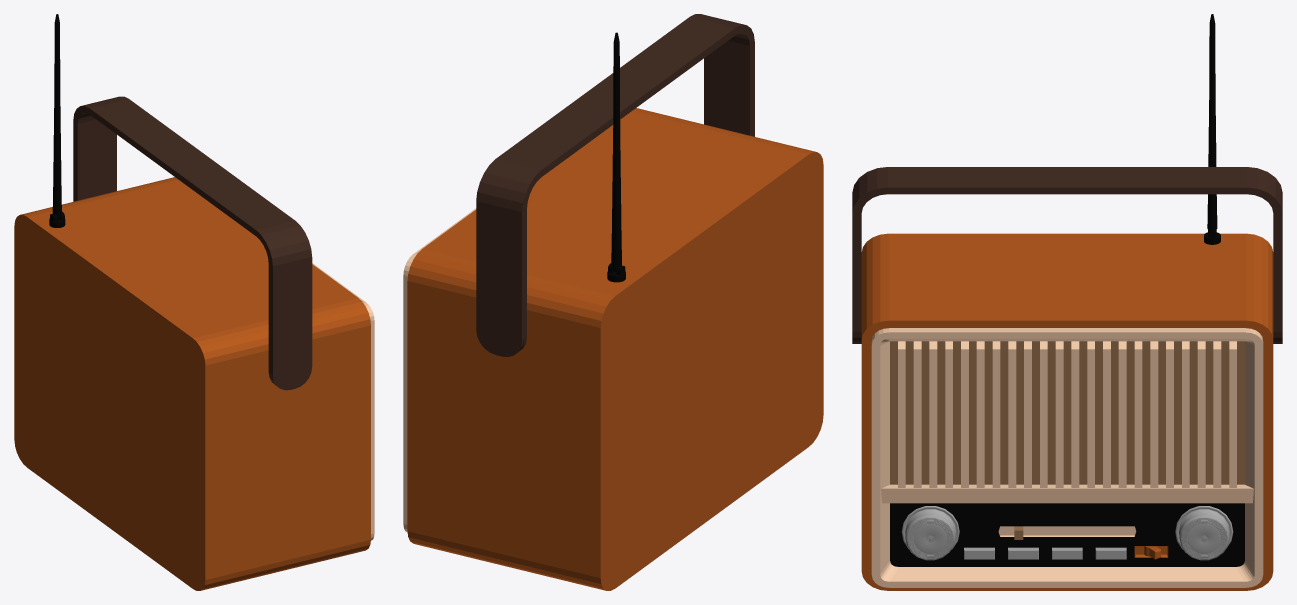
Rendered from radio1.fbx.
3 views of the same model, side by side, from view 1: azimuth 30°, elevation 25°; view 2: azimuth 150°, elevation 25°; view 3: azimuth 270°, elevation 25° (orthographic). The views are drawn at different scales.
Visible parts, largest first — view 1: radio; view 2: radio; view 3: radio.
Part boxes in pixels (left/top/right/bottom): radio: left=14, top=14, right=374, bottom=590; radio: left=403, top=14, right=823, bottom=590; radio: left=852, top=14, right=1282, bottom=590.
Size of the model in its own units: 474 by 1201 by 942.
